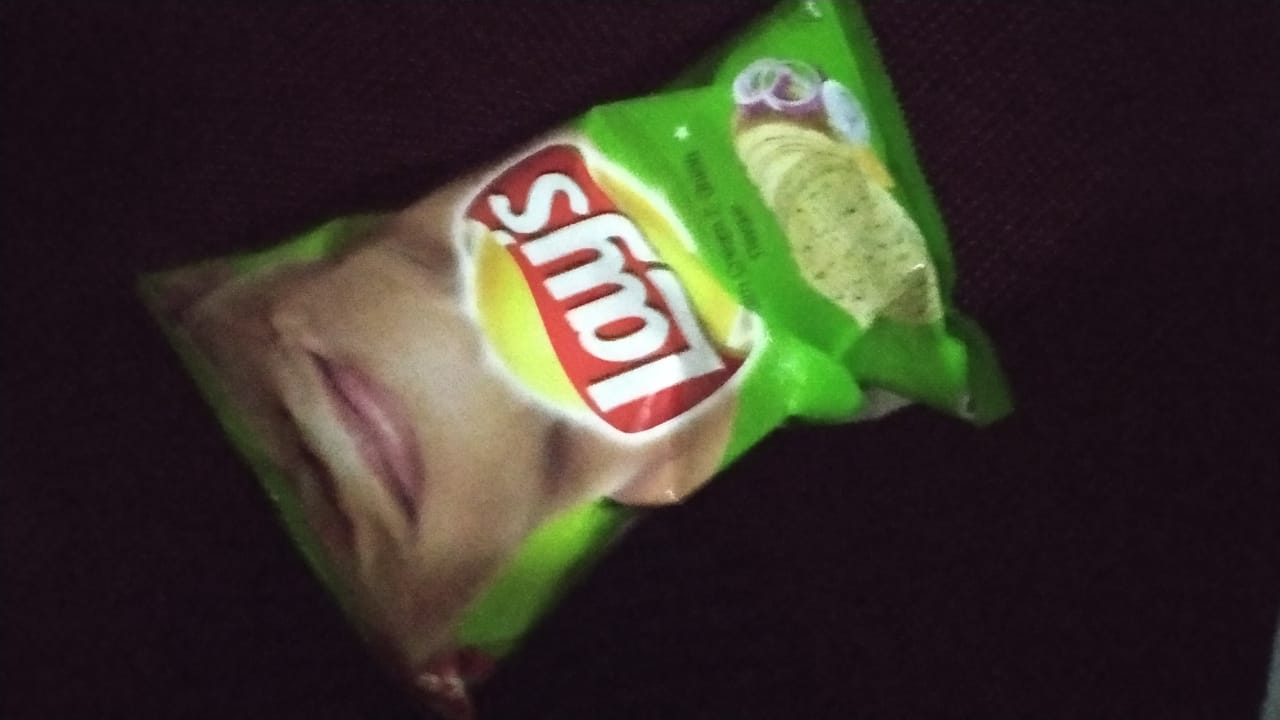lays chips: (190, 25, 1039, 709)
